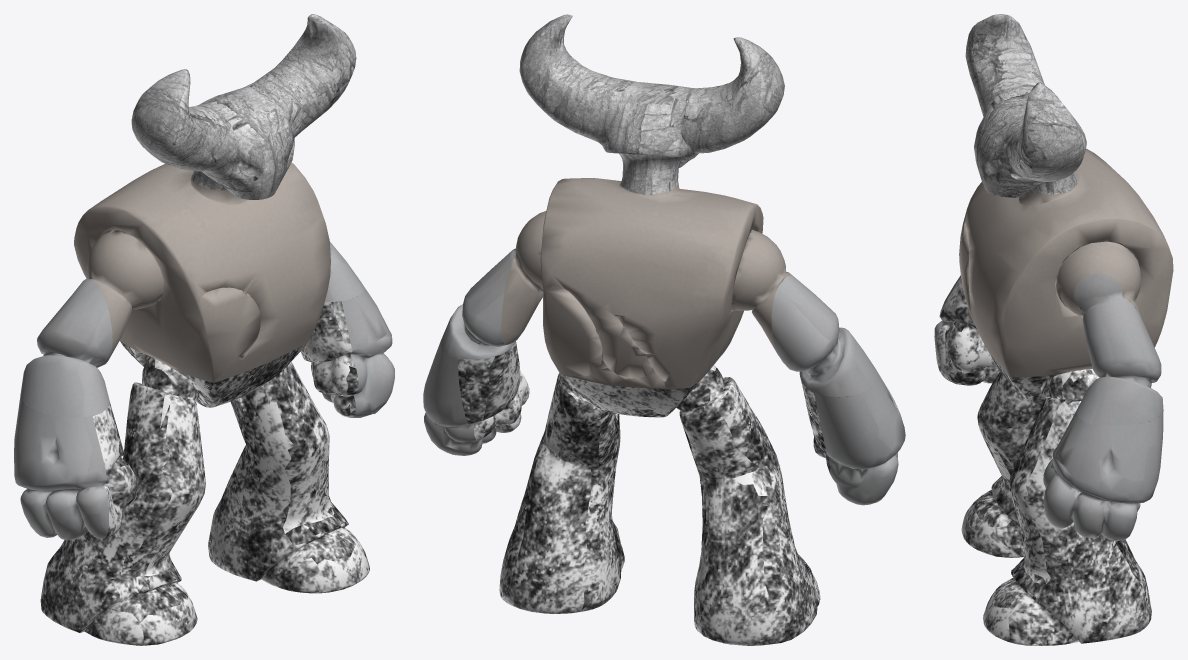
Rendered from 09-monolith-tanka--white_horned_robot_3d_model.glb.
The picture shows the model from 3 angles, left to right: view 1: azimuth 30°, elevation 25°; view 2: azimuth 150°, elevation 25°; view 3: azimuth 270°, elevation 25°; orthographic projection. The views are drawn at different scales.
Visible parts, largest first — view 1: feet_mesh, body_mesh, arms_mesh, head_mesh; view 2: feet_mesh, body_mesh, arms_mesh, head_mesh; view 3: feet_mesh, body_mesh, arms_mesh, head_mesh.
Part boxes in pixels (bbox=[...]): feet_mesh: bbox=[40, 301, 369, 645]; body_mesh: bbox=[74, 162, 330, 382]; arms_mesh: bbox=[14, 241, 394, 540]; head_mesh: bbox=[131, 14, 356, 199]; feet_mesh: bbox=[458, 341, 849, 645]; body_mesh: bbox=[501, 178, 793, 388]; arms_mesh: bbox=[423, 235, 905, 505]; head_mesh: bbox=[519, 14, 784, 194]; feet_mesh: bbox=[936, 277, 1162, 645]; body_mesh: bbox=[959, 148, 1173, 377]; arms_mesh: bbox=[934, 192, 1163, 540]; head_mesh: bbox=[965, 14, 1086, 197].
Bounding box in the file's own units: 2.36 × 3 × 1.2.
Materials: 4 (4 with a texture image).
